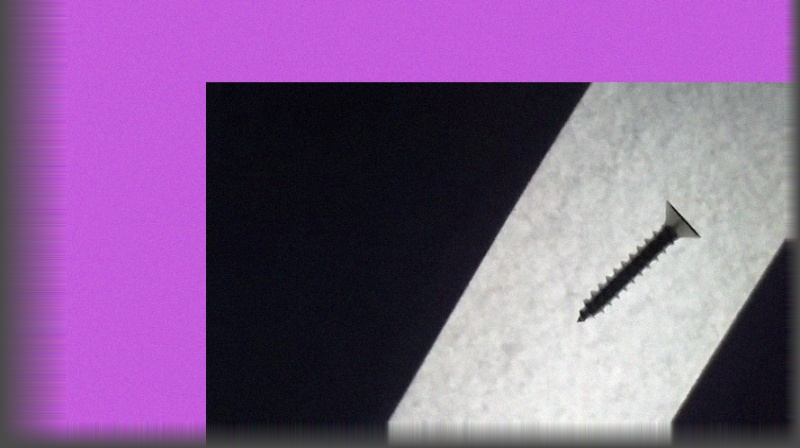S001: (573, 197, 707, 326)
